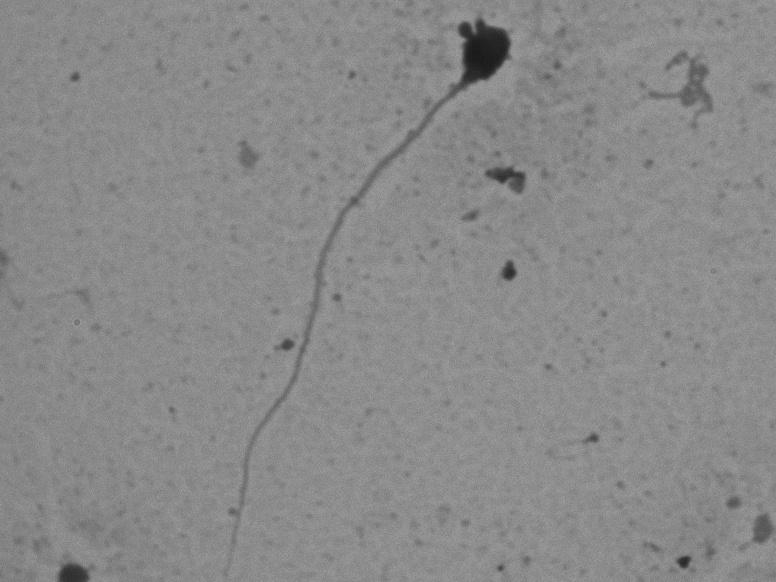Abnormal: (183, 11, 522, 573)
